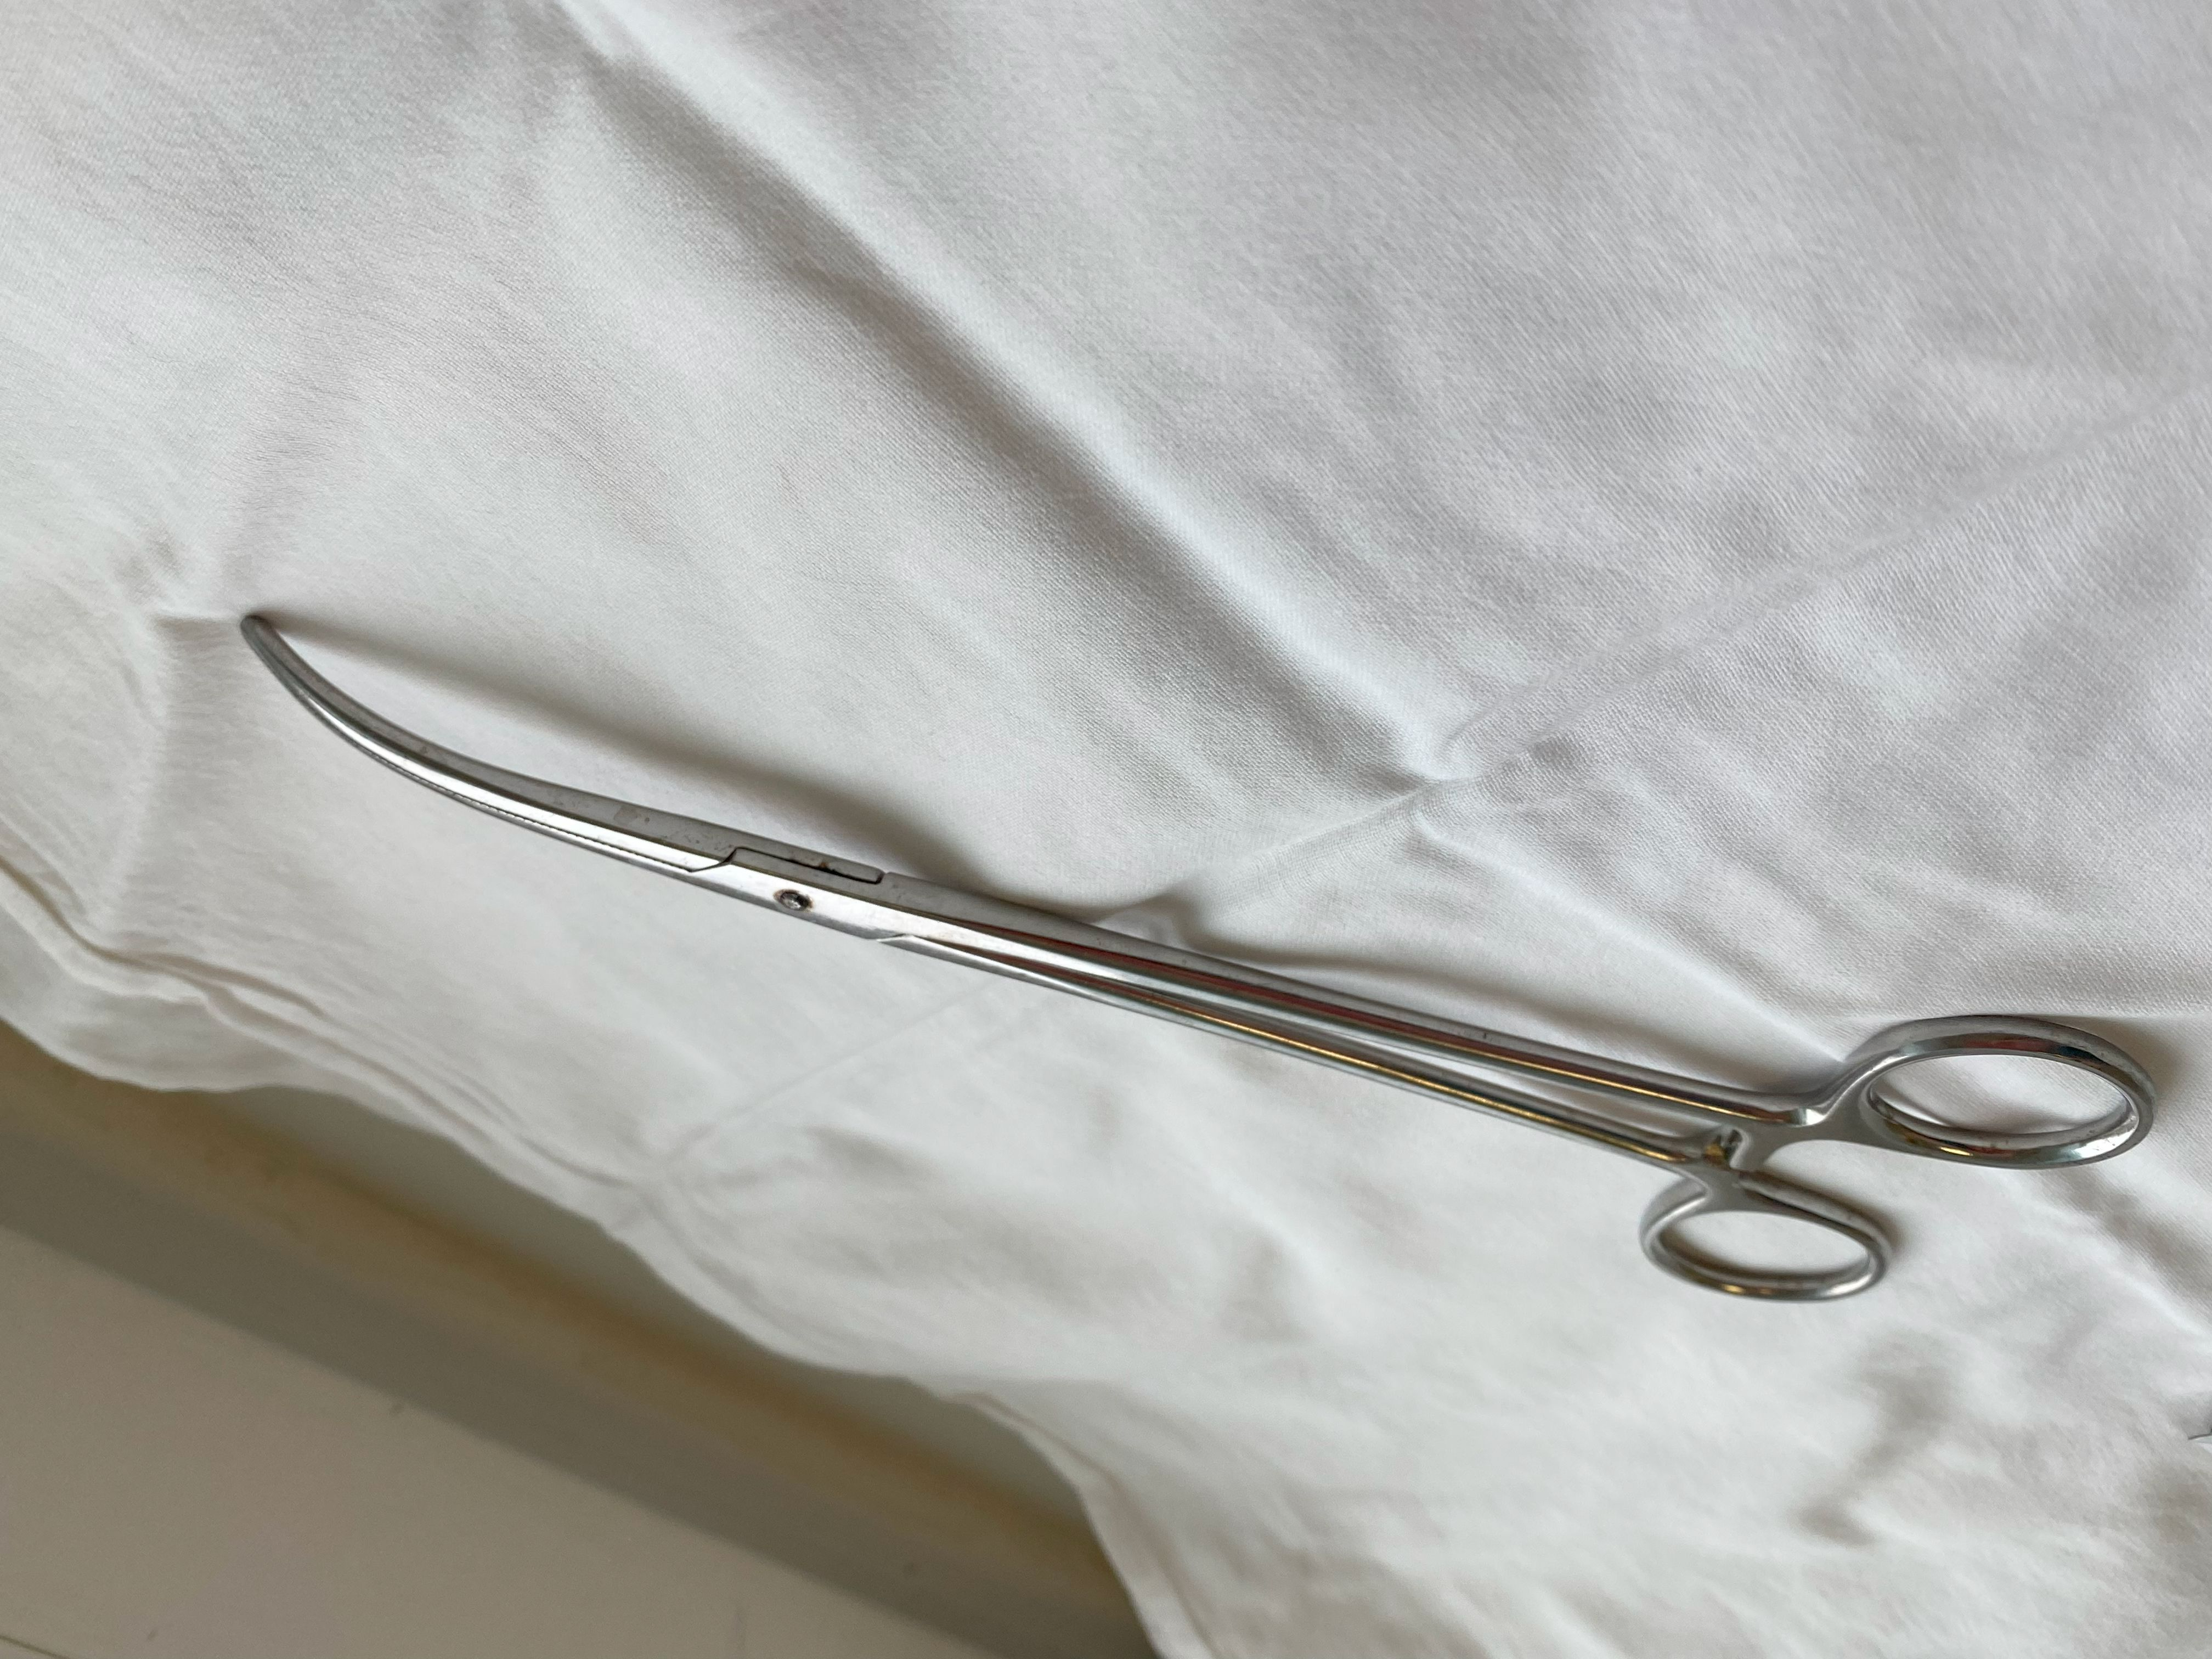clamp: (242, 615, 2156, 1302)
